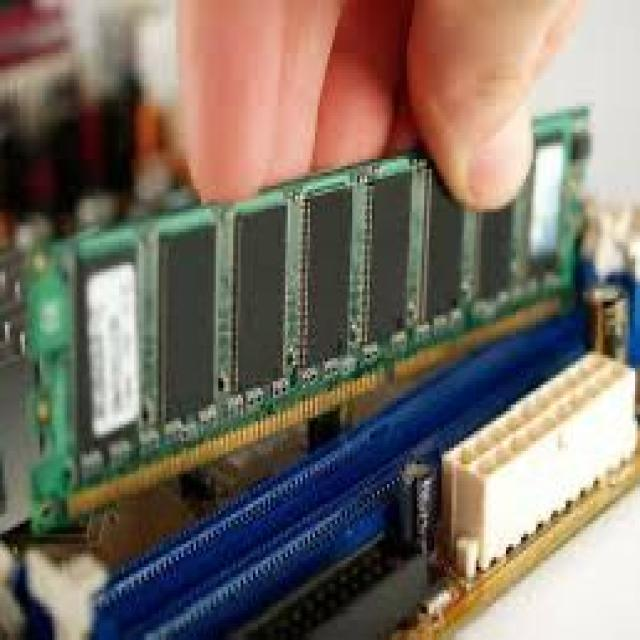Ram: (20, 87, 588, 584)
